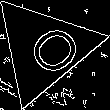O_SW: (9, 16, 79, 82)
